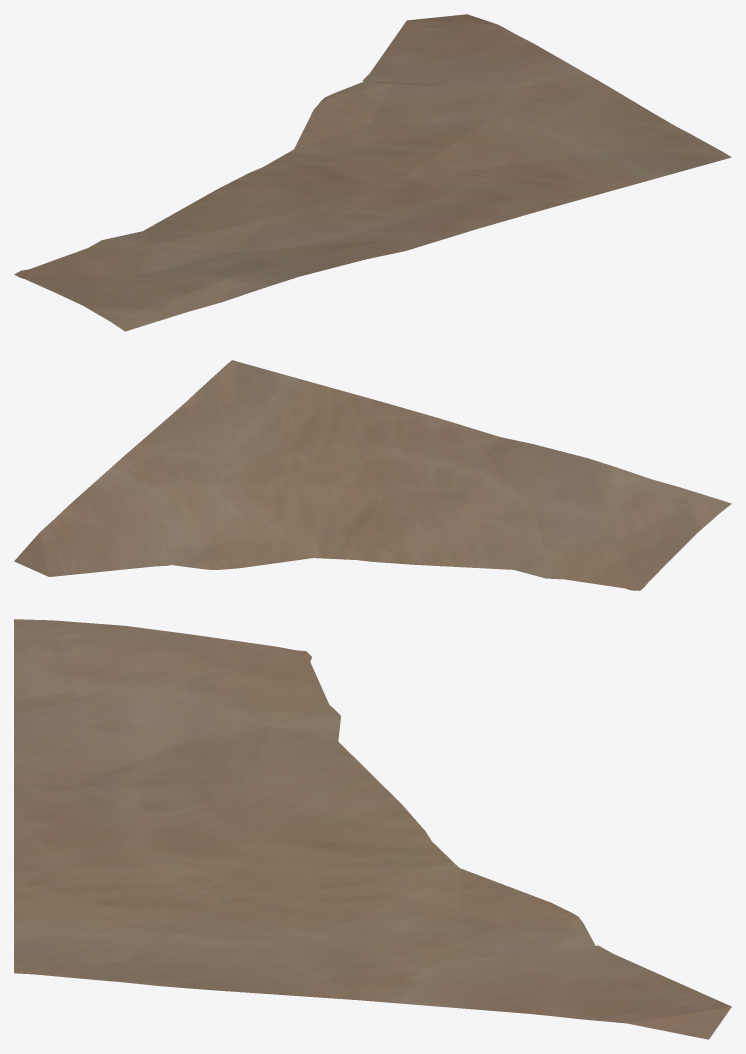
3 renders of one model, top to bottom at view 1: azimuth 30°, elevation 25°; view 2: azimuth 150°, elevation 25°; view 3: azimuth 270°, elevation 25°, orthographic. The views are drawn at different scales.
Bounding box in the file's own units: 2.09 × 0.1665 × 1.63.
Materials: 2 (2 with a texture image).
